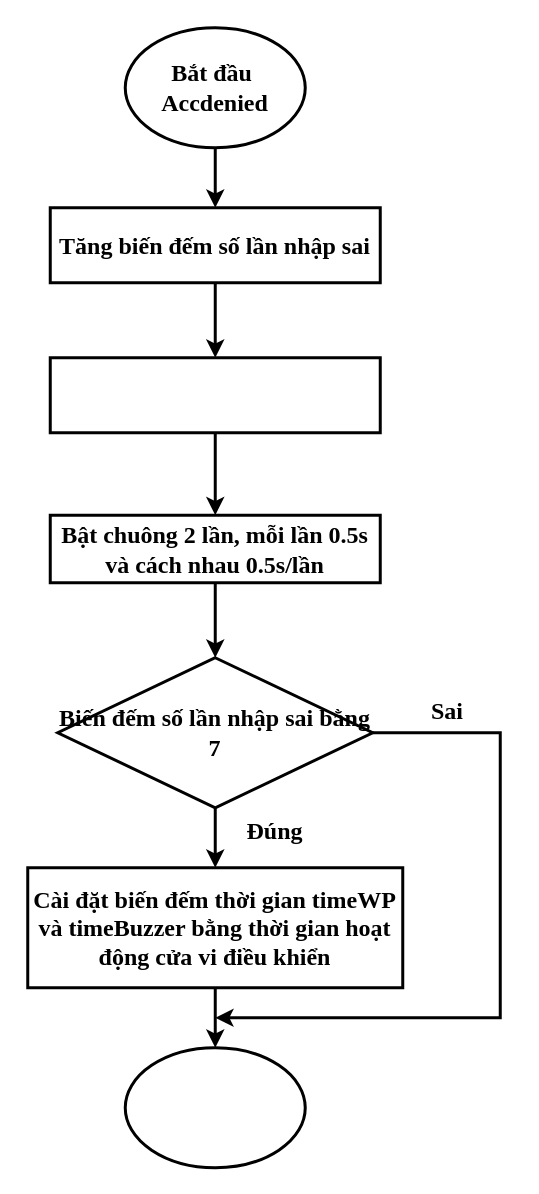
Some shapes in this 539 by 1194 pixel diagram are drawn without their labels. The centre of each missing label's shape, as x and y in pixels:
Hiển thị lên LCD trạng thái "nhập sai": point 214,395
Kết thúc Accdenied: point 214,1107
